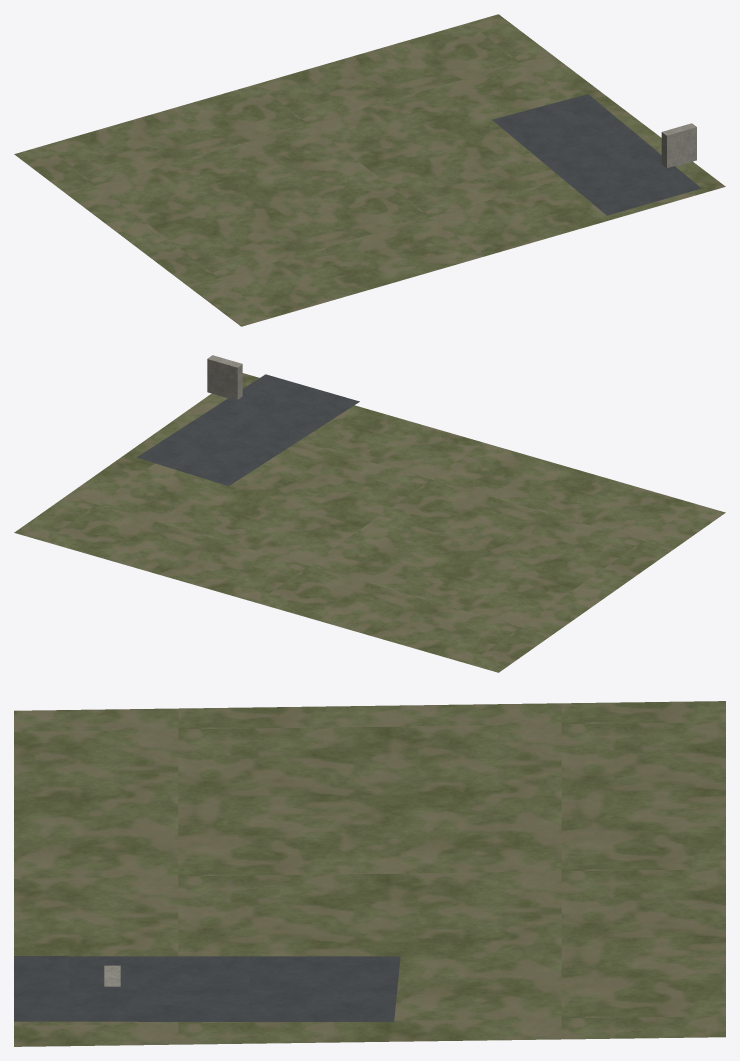
3 renders of one model, top to bottom at view 1: azimuth 30°, elevation 25°; view 2: azimuth 150°, elevation 25°; view 3: azimuth 270°, elevation 25°, orthographic. The views are drawn at different scales.
Size of the model in its own units: 16 by 1.91 by 13.
3 materials, 3 textured.
